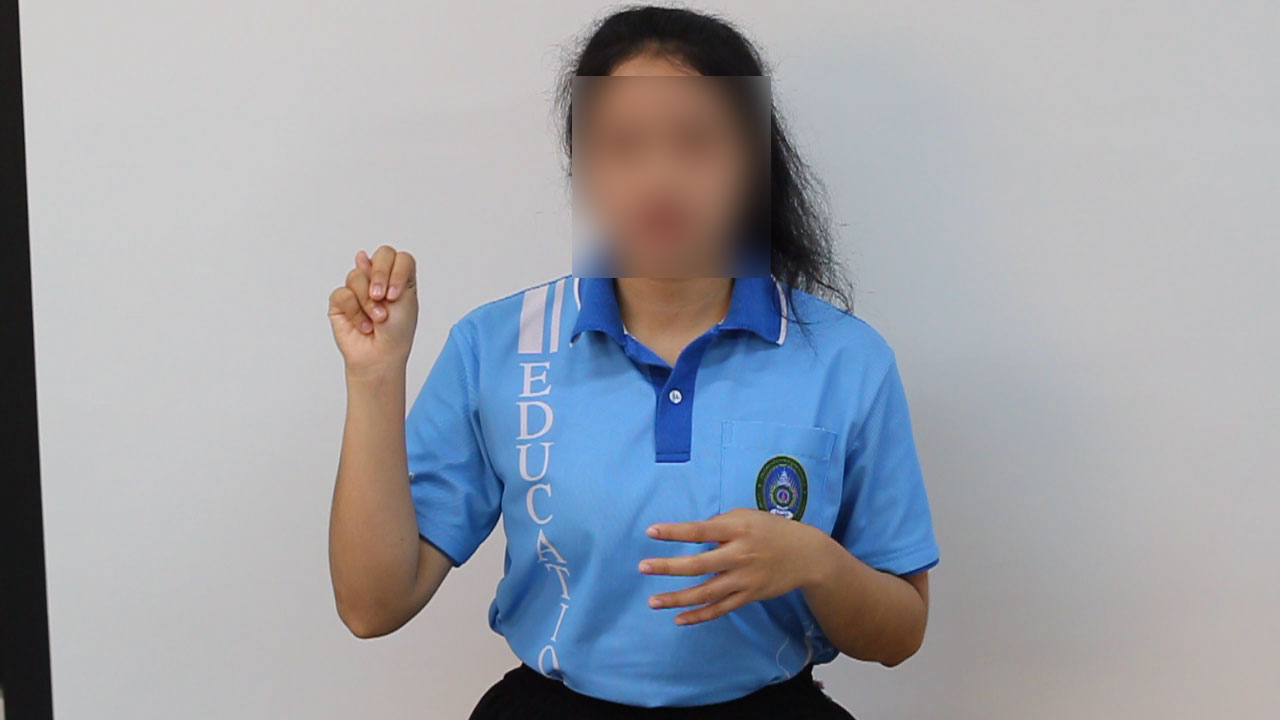nor: (318, 236, 424, 392)
